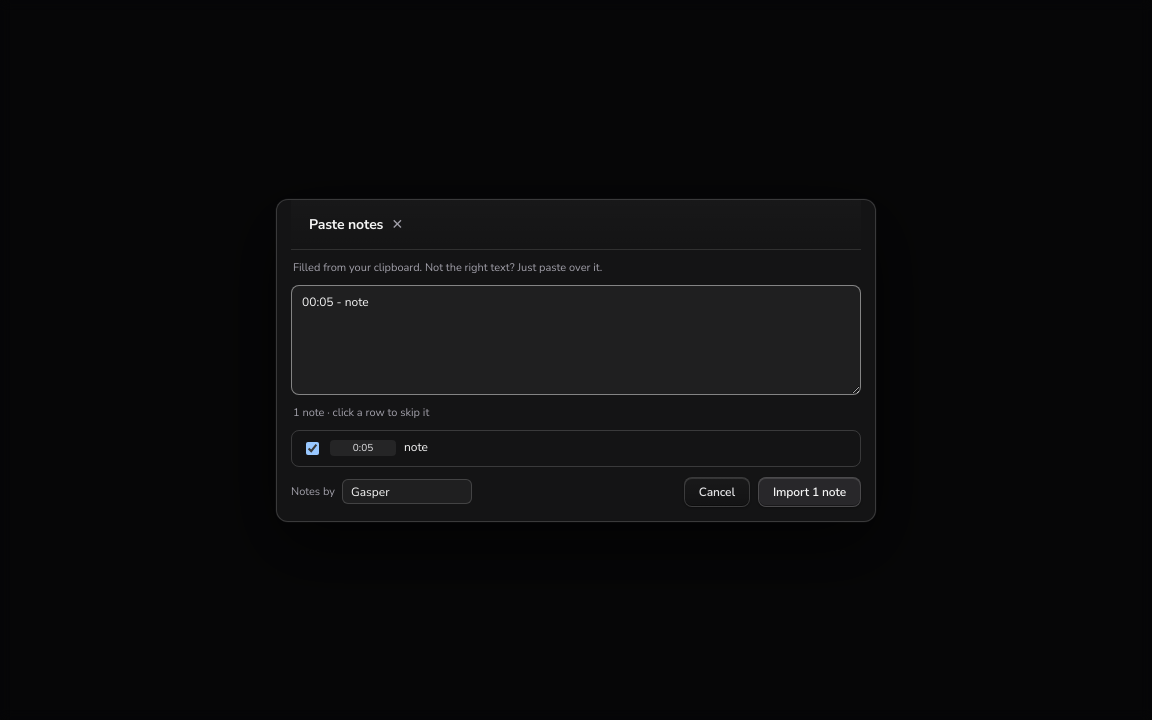
Test: clipboard prefill › drops the provenance note as soon as the user edits
This screenshot has width=1152, height=720.
Replace the text in the text box with placeholder "Paste from a Google Doc" with "00:05 - note, edited" at [576, 340], box [291,284,861,394]
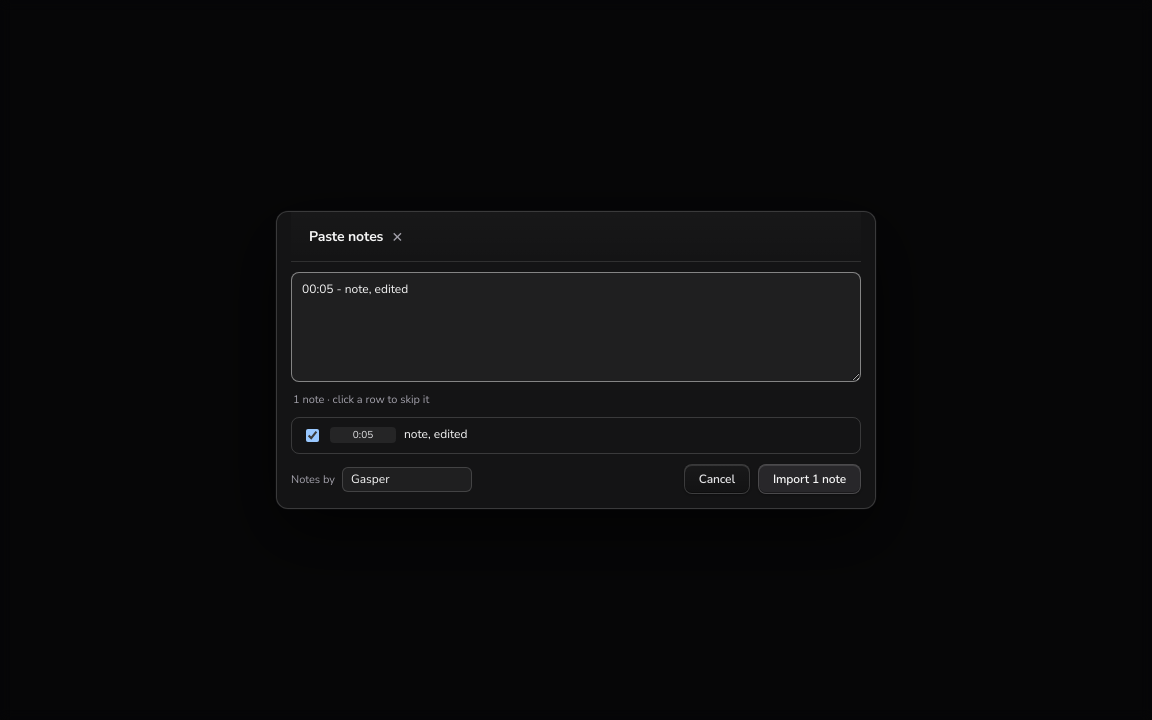
Check: the text "Filled from your clipboard" is gone
